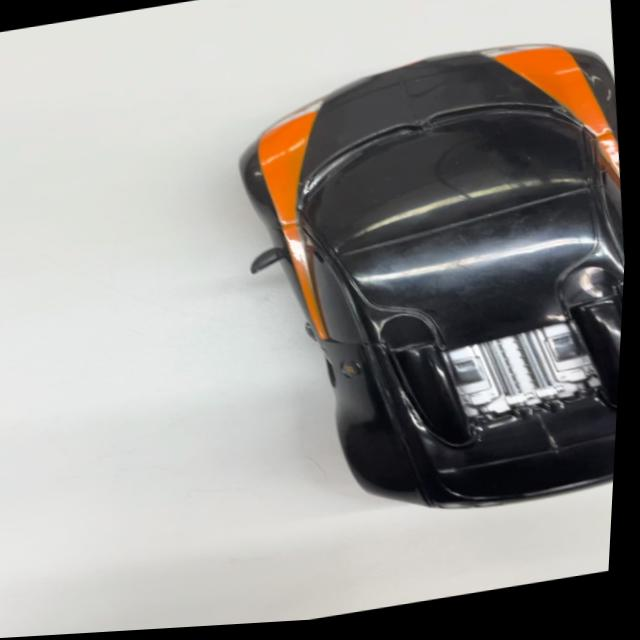vehicle_body: (198, 18, 637, 545)
